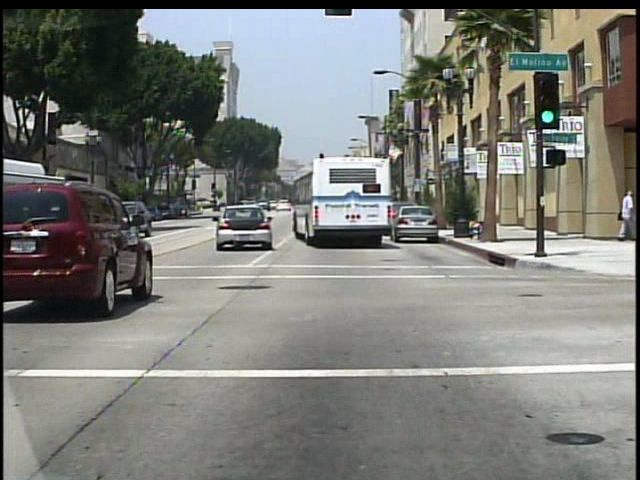person: (616, 188, 639, 243)
